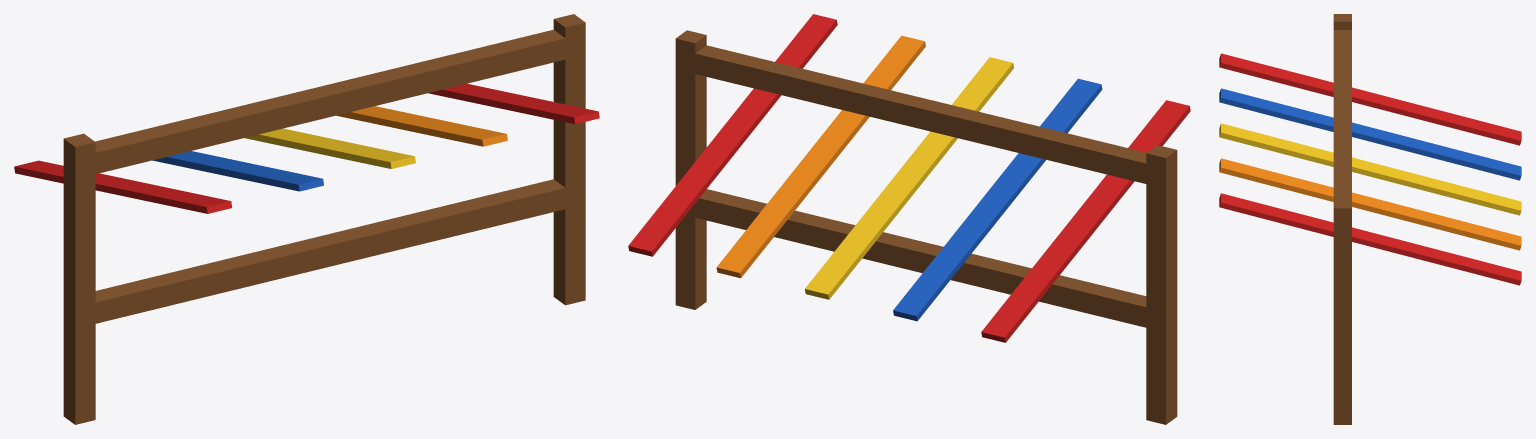
File: ski_rack.glb
3 views of the same model, side by side, from view 1: azimuth 30°, elevation 25°; view 2: azimuth 150°, elevation 25°; view 3: azimuth 270°, elevation 25° (orthographic). The views are drawn at different scales.
Parts seen in each view (by area): view 1: ski_rack; view 2: ski_rack; view 3: ski_rack.
Boxes of the visible parts, x1,y1,x2,y2 form: ski_rack: (14, 14, 599, 424); ski_rack: (628, 14, 1190, 424); ski_rack: (1219, 14, 1521, 424).
Bounding box in the file's own units: 2.5 × 1.3 × 1.64.
